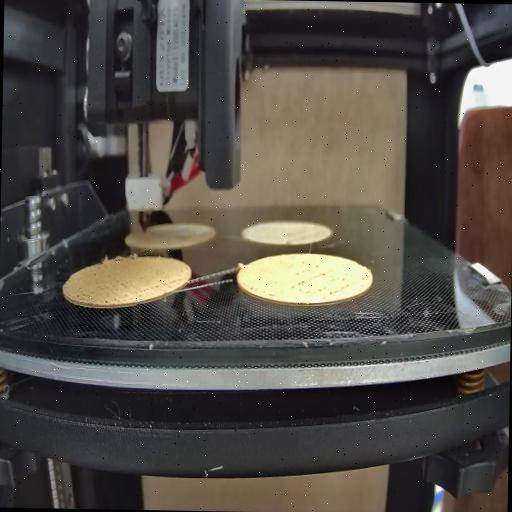under_extrusion: (292, 262, 354, 300), (72, 272, 132, 303), (248, 284, 278, 303), (142, 278, 178, 292)
